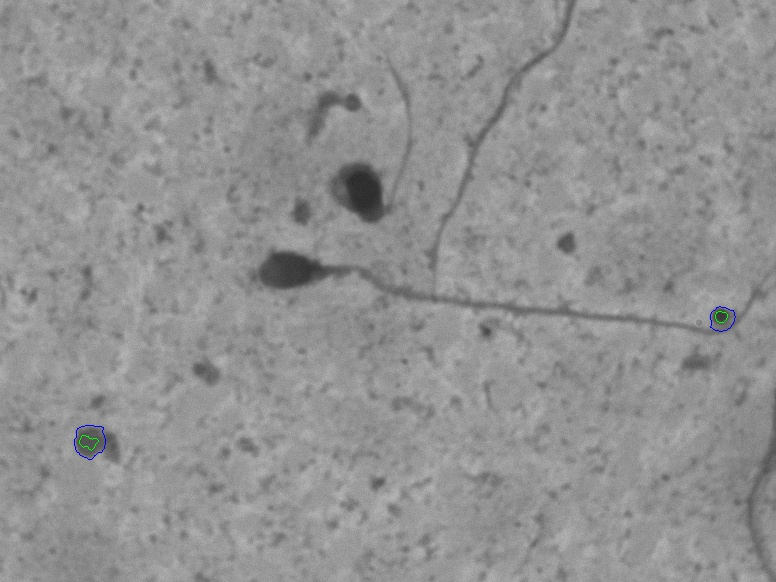Abnormal: (231, 243, 717, 369)
